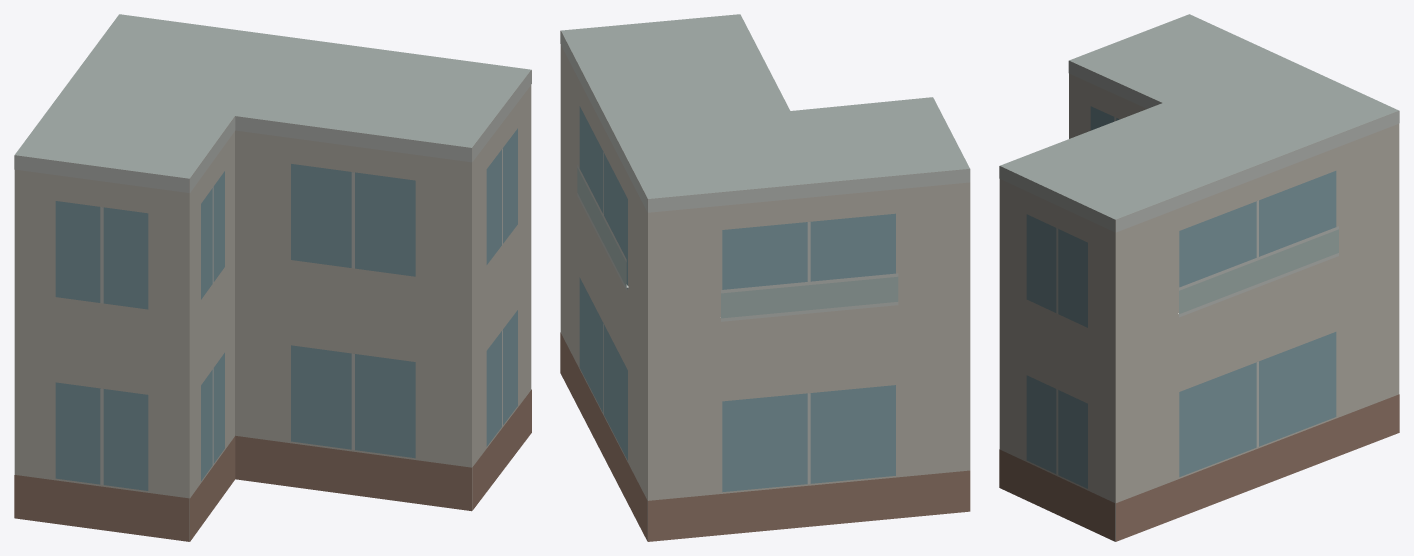
Rendered from survey-upis-32689446.glb.
3 renders of one model, left to right at view 1: azimuth 30°, elevation 25°; view 2: azimuth 150°, elevation 25°; view 3: azimuth 270°, elevation 25°, orthographic. The views are drawn at different scales.
Parts seen in each view (by area): view 1: survey-upis-32689446.tmp; view 2: survey-upis-32689446.tmp; view 3: survey-upis-32689446.tmp.
Part boxes in pixels (x1,y1,x2,y2): survey-upis-32689446.tmp: (14,14,531,541); survey-upis-32689446.tmp: (560,14,970,541); survey-upis-32689446.tmp: (999,14,1399,541).
Size of the model in its own units: 8.37 by 6.1 by 6.87.
